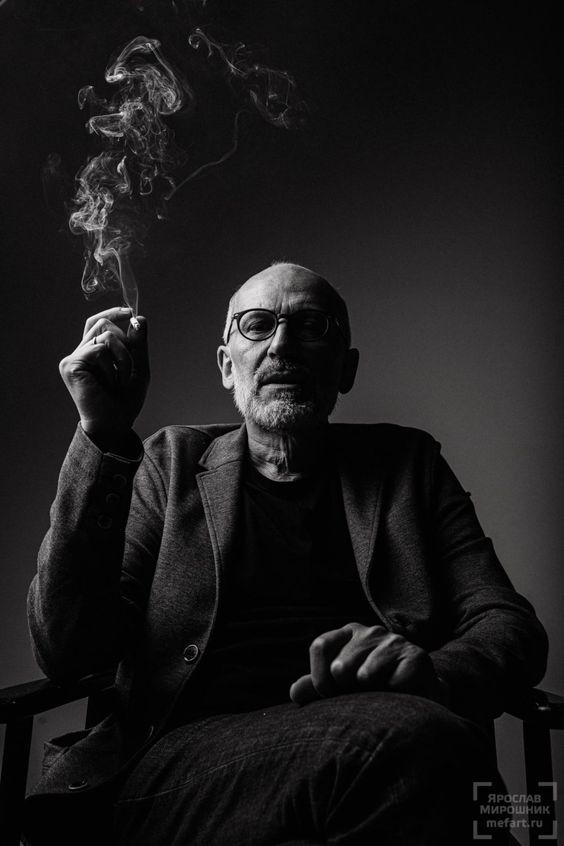cigarette: (128, 316, 140, 331)
